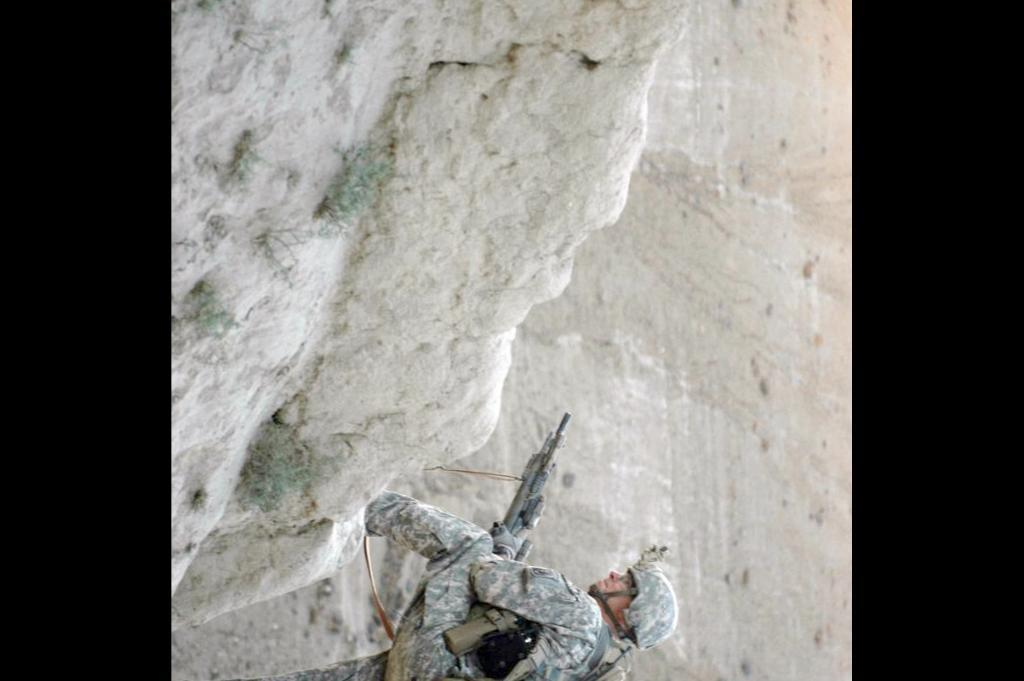gun: (495, 409, 576, 552)
